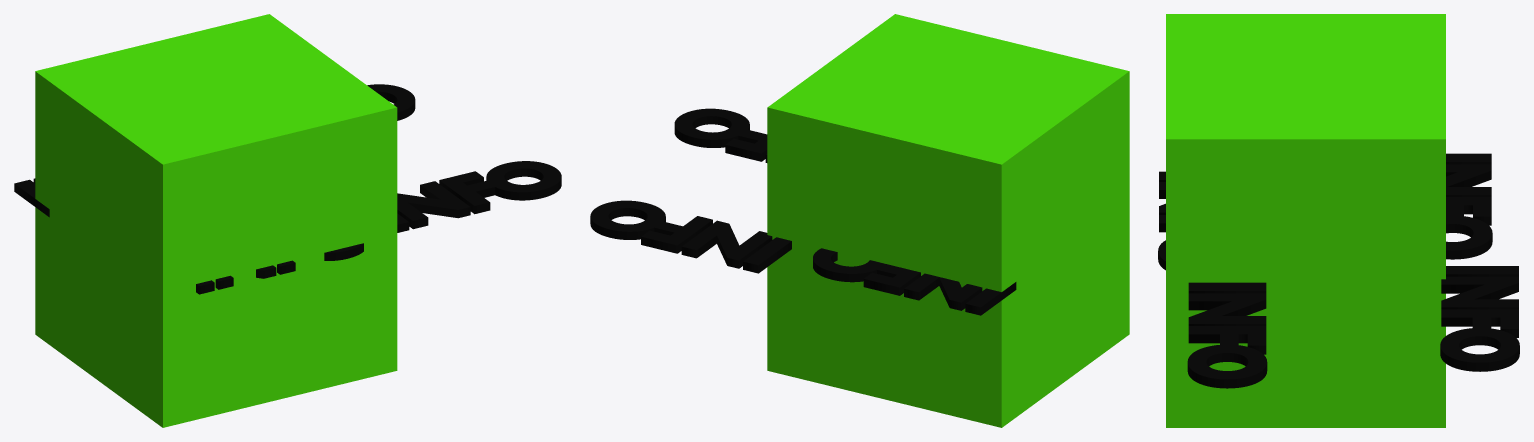
Rendered from InfoBox.fbx.
3 renders of one model, left to right at view 1: azimuth 30°, elevation 25°; view 2: azimuth 150°, elevation 25°; view 3: azimuth 270°, elevation 25°, orthographic. The views are drawn at different scales.
Visible parts, largest first — view 1: Cube, Text.002, Text, Text.001, Text.003; view 2: Cube, Text.001, Text.003, Text.002; view 3: Cube, Text.002, Text.001, Text.003, Text.
Part boxes in pixels (x1,y1,x2,y2): Cube: (35,14,397,427); Text.002: (397,161,561,232); Text: (196,243,363,294); Text.001: (367,84,415,120); Text.003: (14,178,49,217); Cube: (767,14,1129,427); Text.001: (590,200,791,273); Text.003: (813,248,1016,315); Text.002: (674,108,767,162); Cube: (1166,14,1445,427); Text.002: (1187,282,1267,388); Text.001: (1440,266,1519,371); Text.003: (1446,153,1492,259); Text: (1158,171,1165,270).
Bounding box in the file's own units: 537 × 320 × 364.
